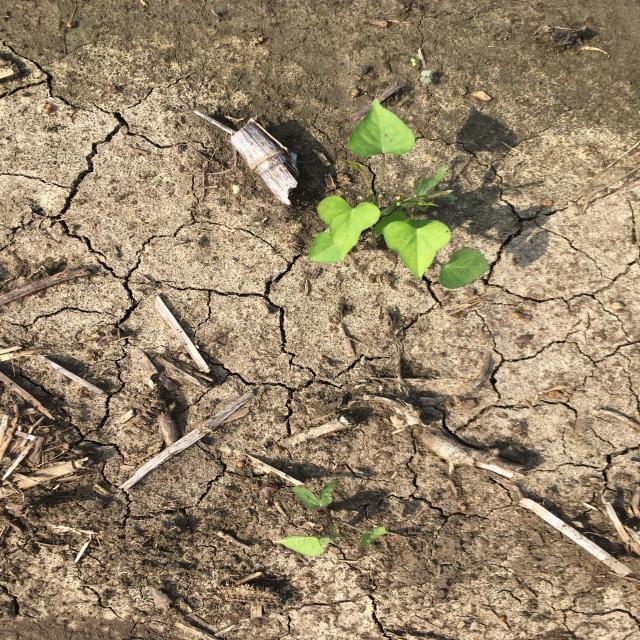MorningGlory: (305, 95, 494, 291), (270, 485, 390, 561)
